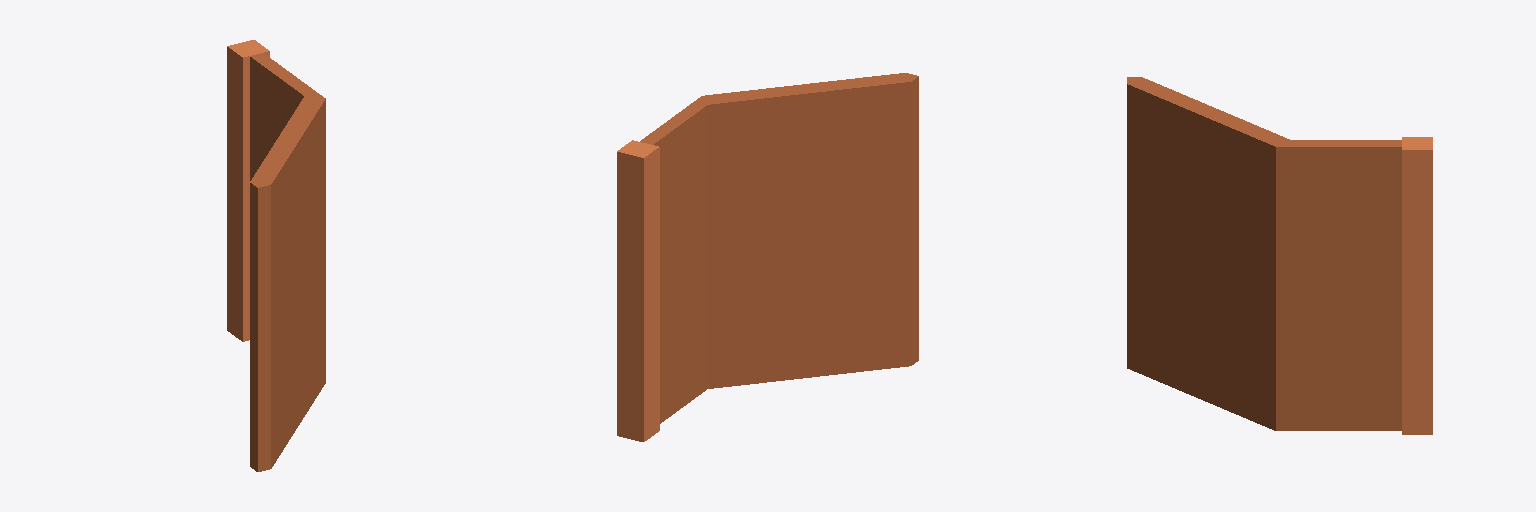
Rendered from wallWoodCornerDiagonalHalf.obj.
The picture shows the model from 3 angles: view 1: azimuth 30°, elevation 25°; view 2: azimuth 150°, elevation 25°; view 3: azimuth 270°, elevation 25°; orthographic projection.
Parts seen in each view (by area): view 1: wallWoodCornerDiagonalHalf; view 2: wallWoodCornerDiagonalHalf; view 3: wallWoodCornerDiagonalHalf.
Part boxes in pixels (x1,y1,x2,y2): wallWoodCornerDiagonalHalf: (227, 40, 325, 471); wallWoodCornerDiagonalHalf: (617, 73, 918, 441); wallWoodCornerDiagonalHalf: (1127, 77, 1432, 434).
Bounding box in the file's own units: 0.55 × 1 × 0.975.